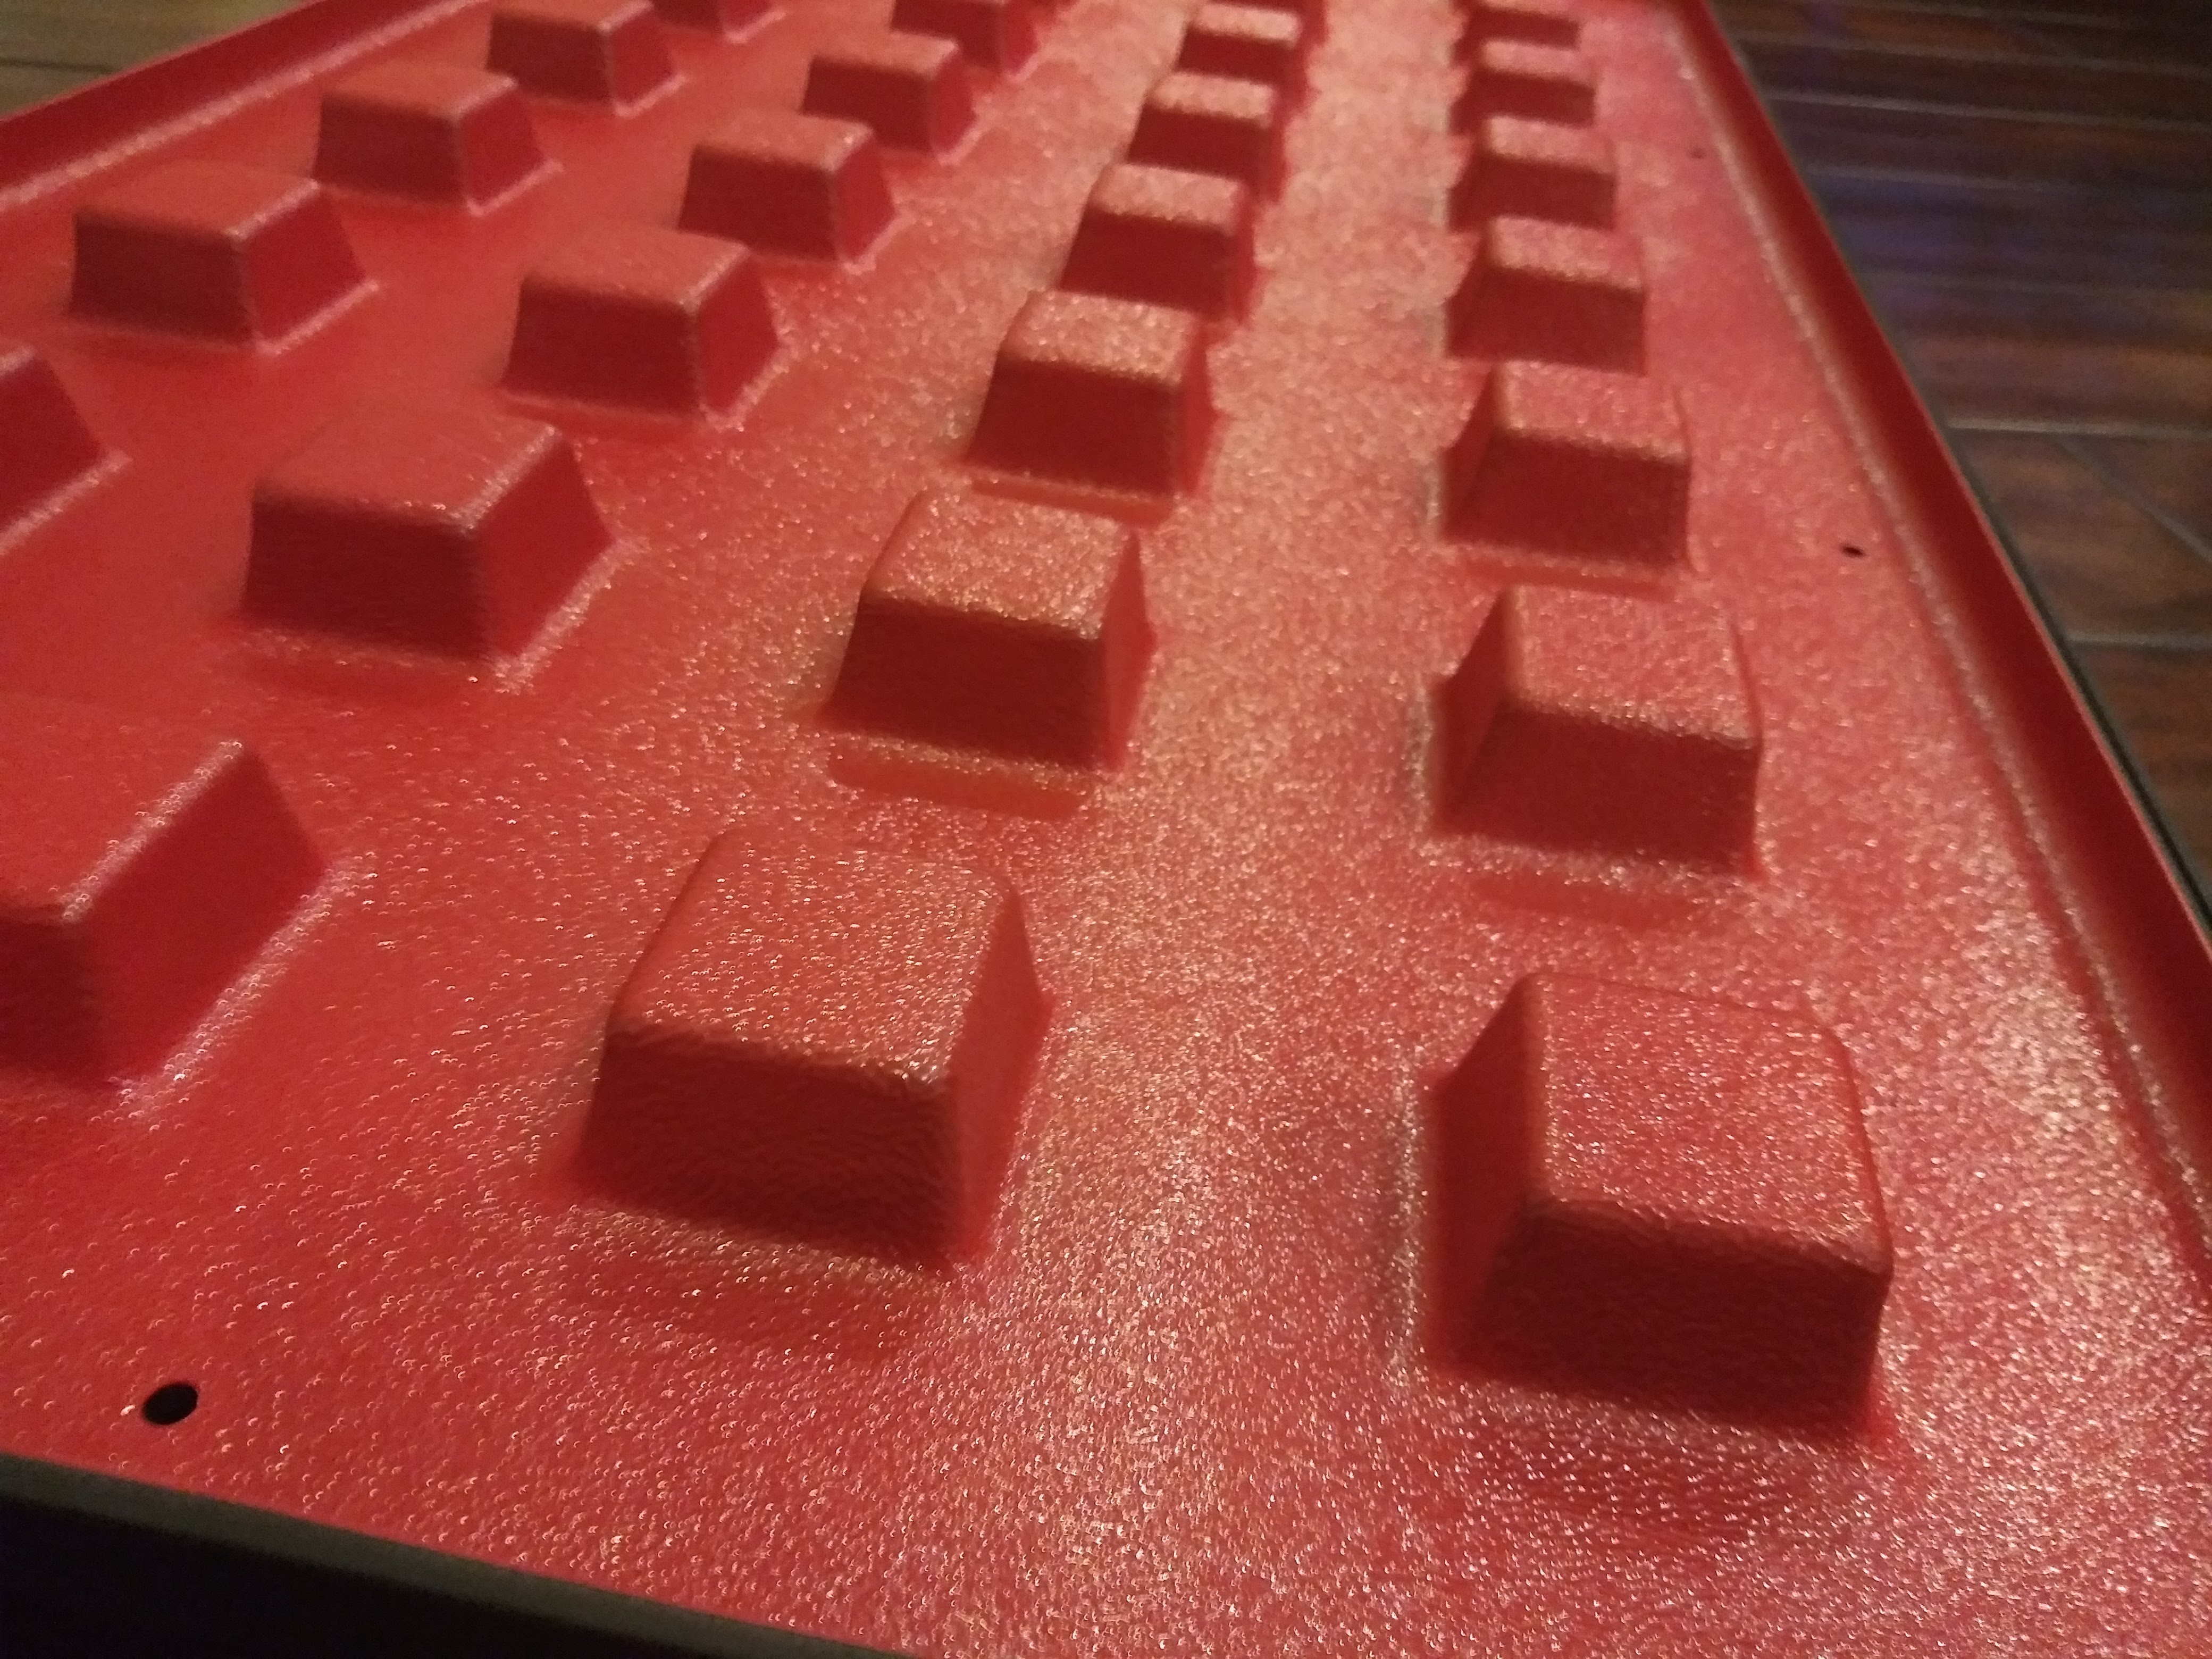red foundation: (51, 91, 2120, 1584)
